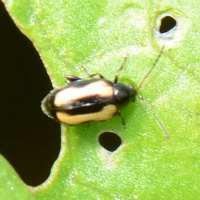insect: (109, 45, 169, 138)
